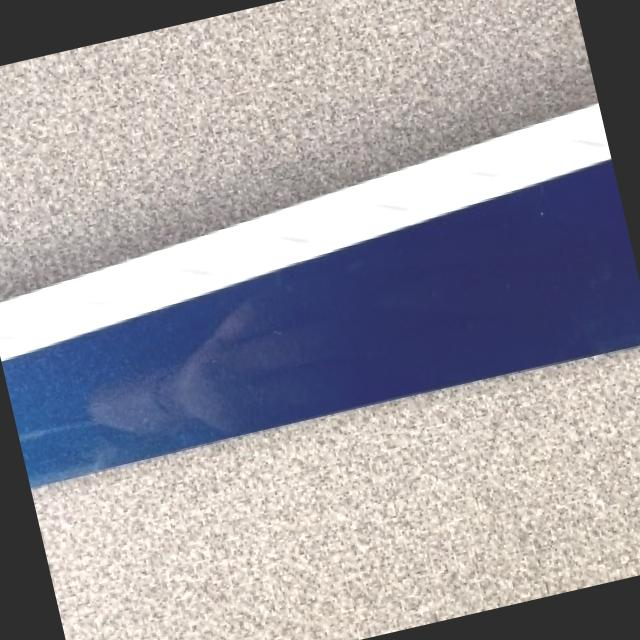healthy: (0, 105, 640, 483)
